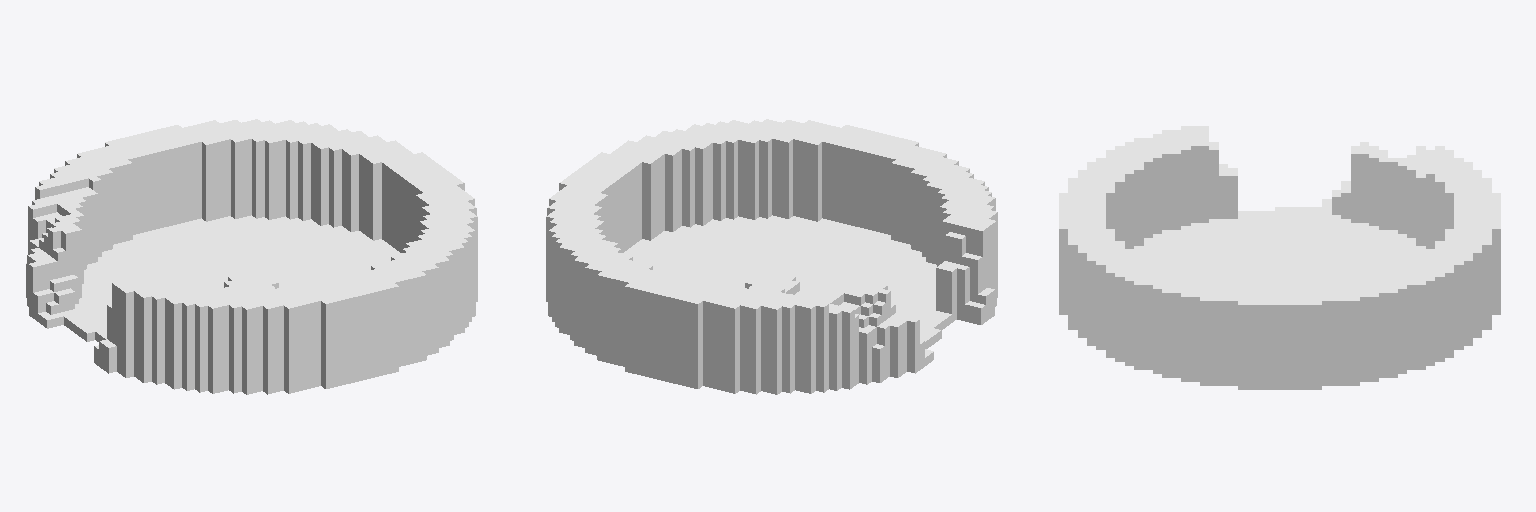
File: pool_1.obj
3 renders of one model, left to right at view 1: azimuth 30°, elevation 25°; view 2: azimuth 150°, elevation 25°; view 3: azimuth 270°, elevation 25°, orthographic.
Visible parts, largest first — view 1: pool_1; view 2: pool_1; view 3: pool_1.
Part boxes in pixels (x1,y1,x2,y2): pool_1: (26,119,477,394); pool_1: (546,119,997,394); pool_1: (1059,126,1500,389).
Size of the model in its own units: 46 by 10 by 47.